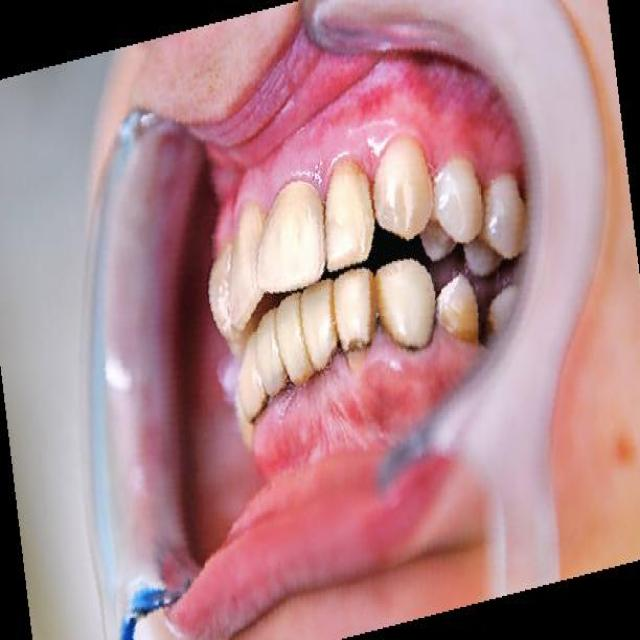caries: (245, 383, 277, 431), (342, 337, 377, 378), (308, 346, 342, 388), (273, 366, 305, 403)
